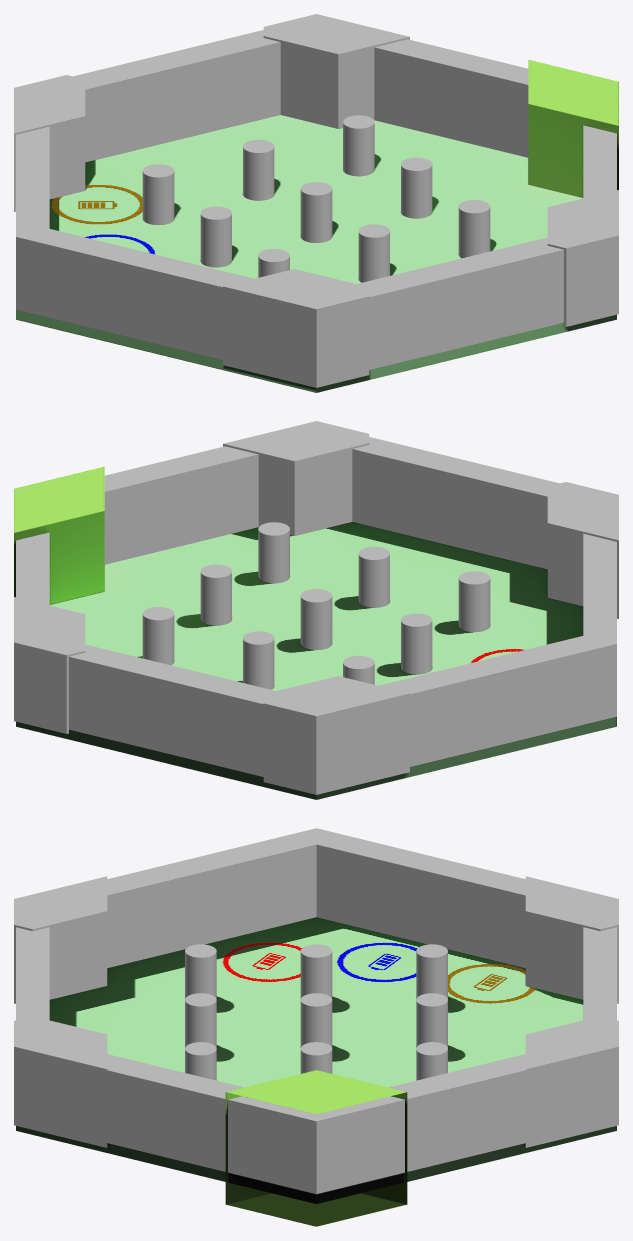
Rendered from turtlebot_env_HD.dae.
3 renders of one model, top to bottom at view 1: azimuth 30°, elevation 25°; view 2: azimuth 150°, elevation 25°; view 3: azimuth 270°, elevation 25°, orthographic.
Visible parts, largest first — view 1: Wall, floor, two_three, head; view 2: Wall, floor, two_three, head; view 3: Wall, floor, two_three, head.
Part boxes in pixels (left/top/right/bottom): Wall: left=14, top=14, right=618, bottom=387; floor: left=16, top=115, right=616, bottom=392; two_three: left=142, top=115, right=490, bottom=282; head: left=528, top=59, right=618, bottom=197; Wall: left=14, top=421, right=618, bottom=794; floor: left=16, top=522, right=616, bottom=799; two_three: left=142, top=522, right=490, bottom=689; head: left=14, top=466, right=104, bottom=604; Wall: left=14, top=828, right=618, bottom=1193; floor: left=16, top=917, right=616, bottom=1203; two_three: left=185, top=944, right=447, bottom=1080; head: left=225, top=1070, right=407, bottom=1226.
Bounding box in the file's own units: 6.62 × 5.76 × 1.18.
